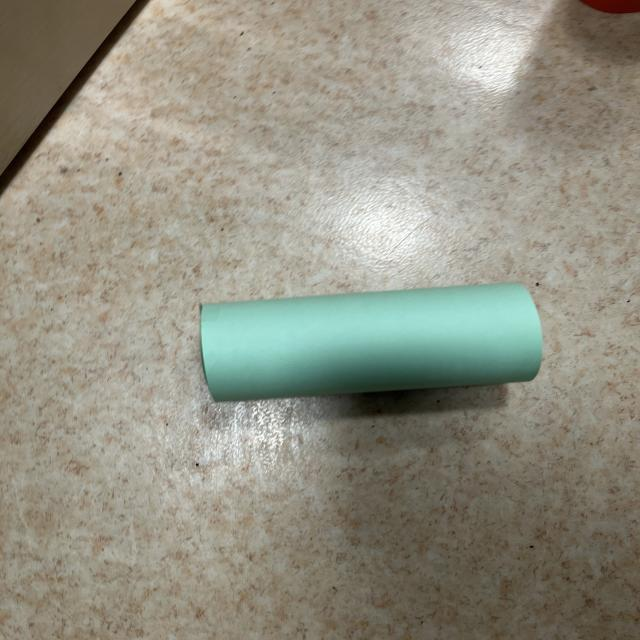meta: (201, 283, 542, 401)
